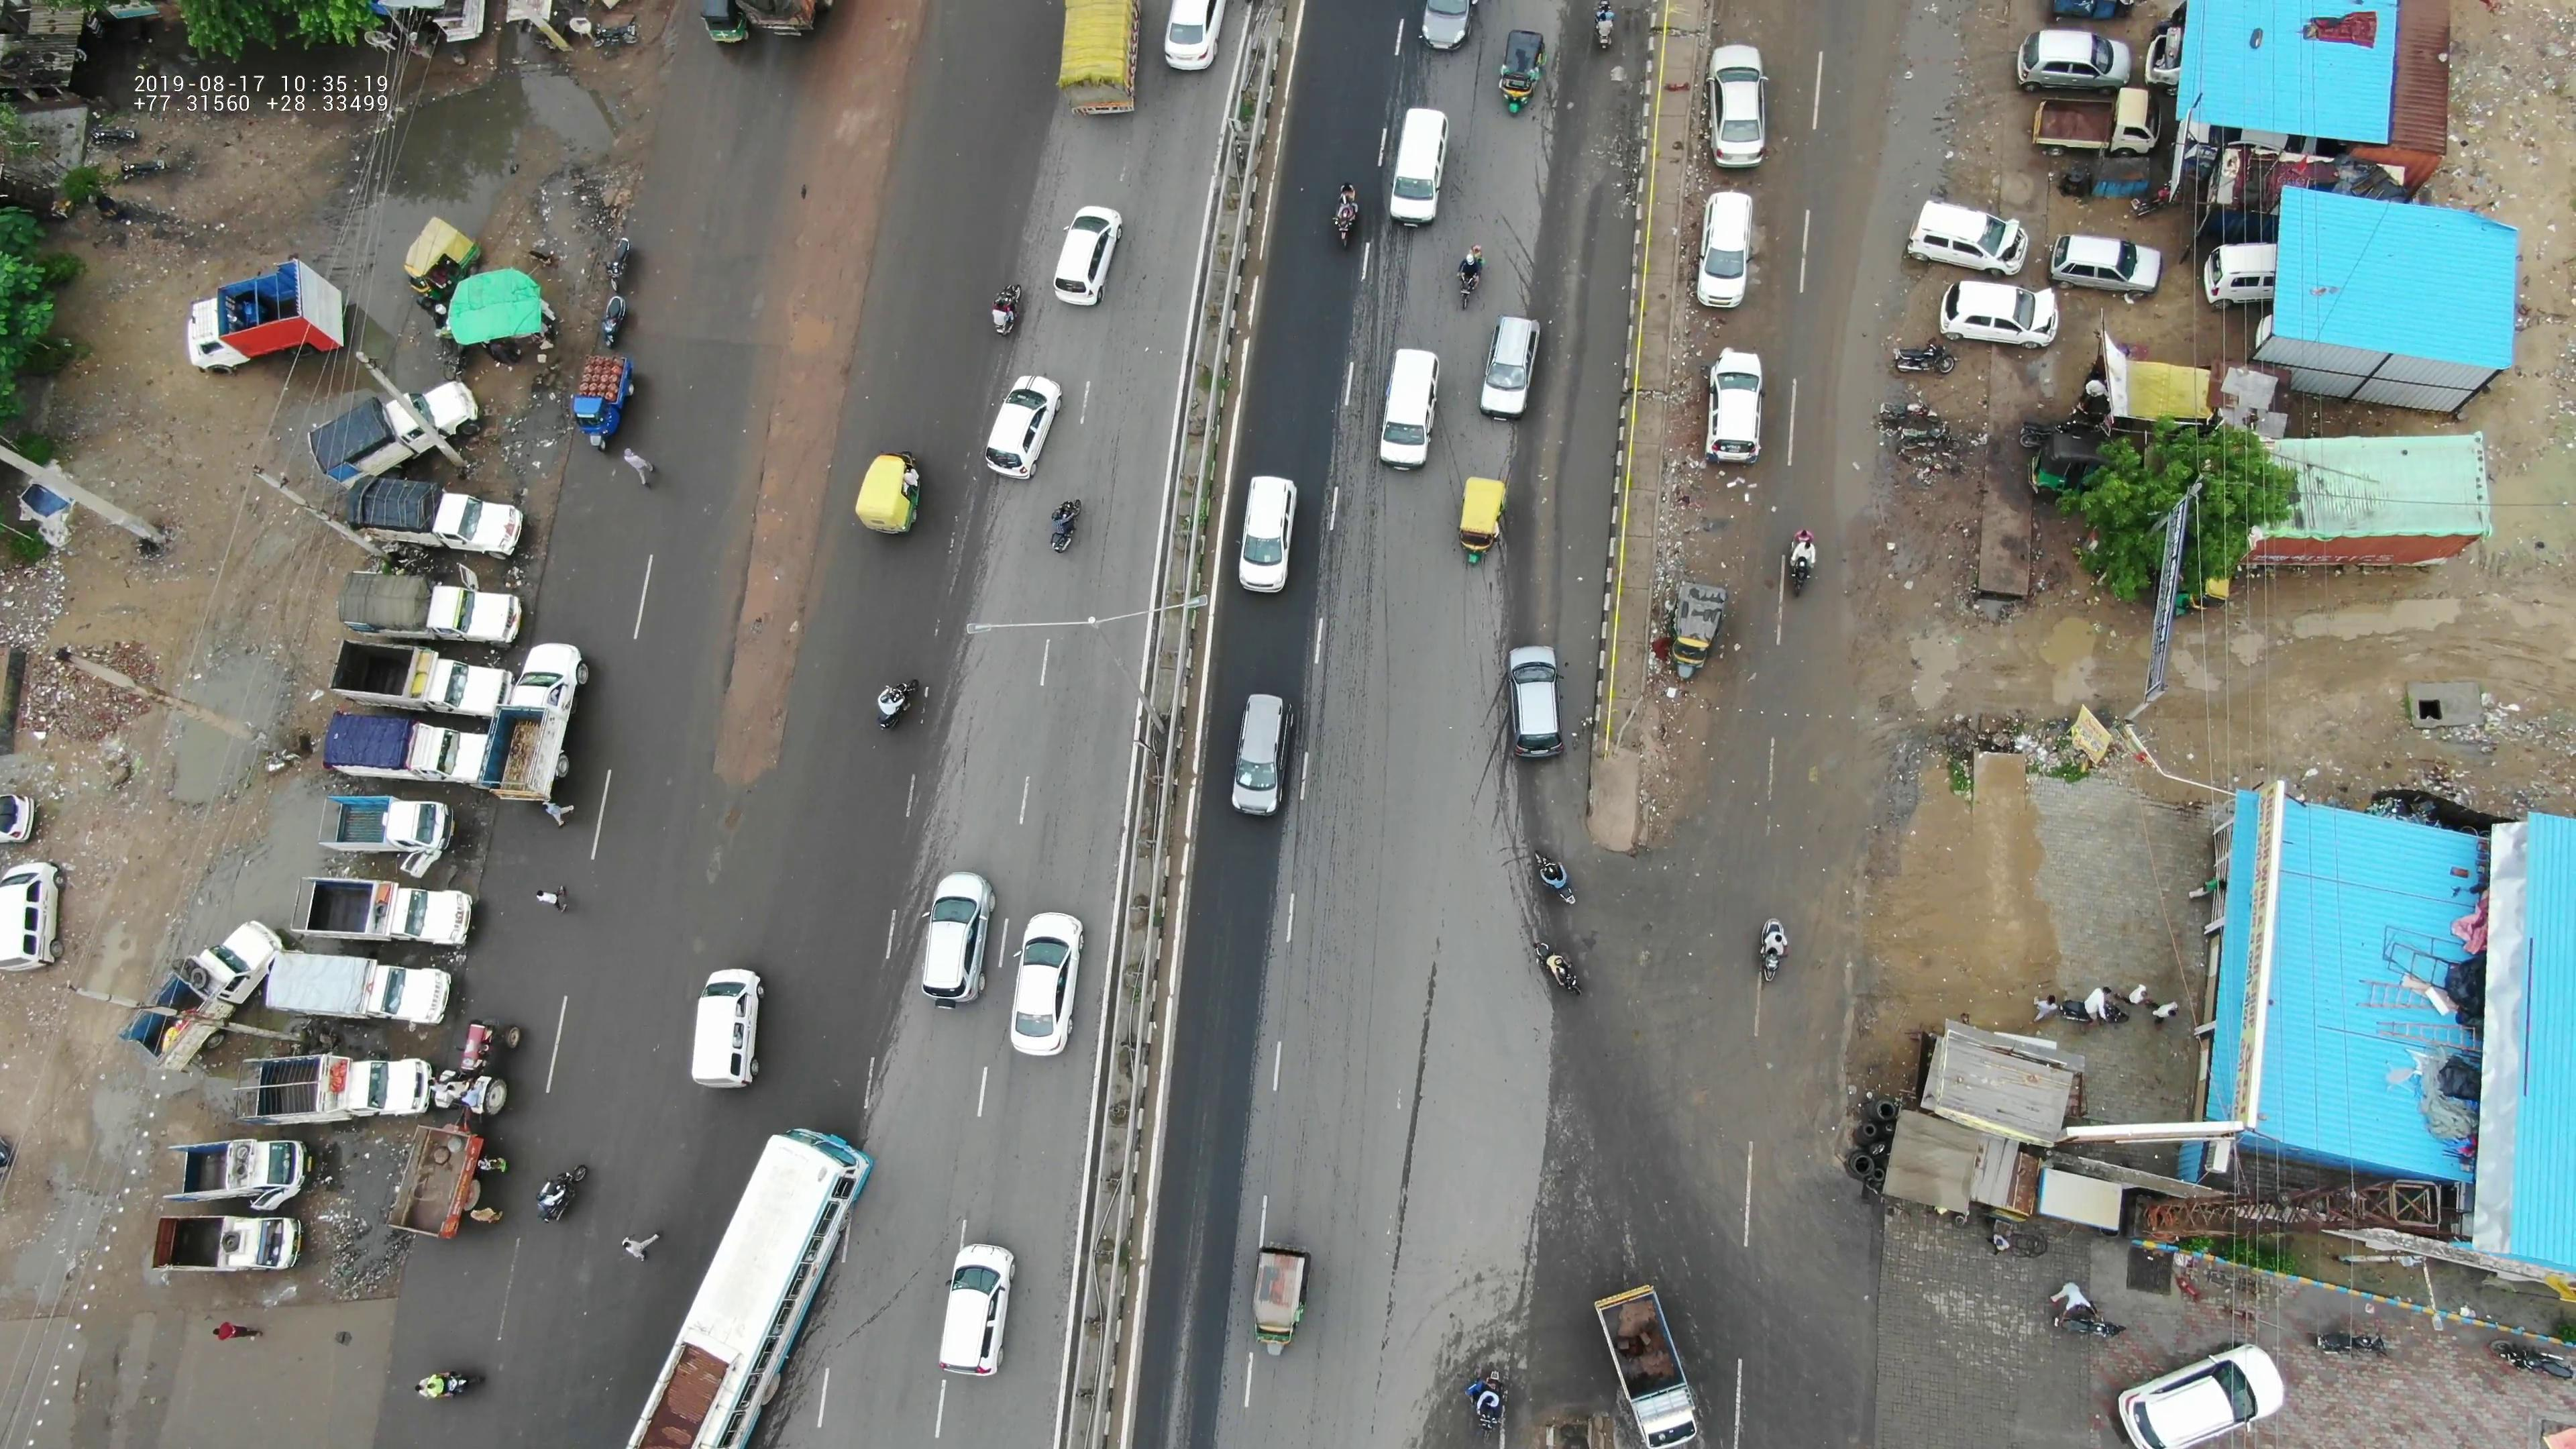Potholes: (686, 794, 775, 897)
Waterlogging: (1826, 0, 1964, 506), (1530, 172, 1638, 660)
